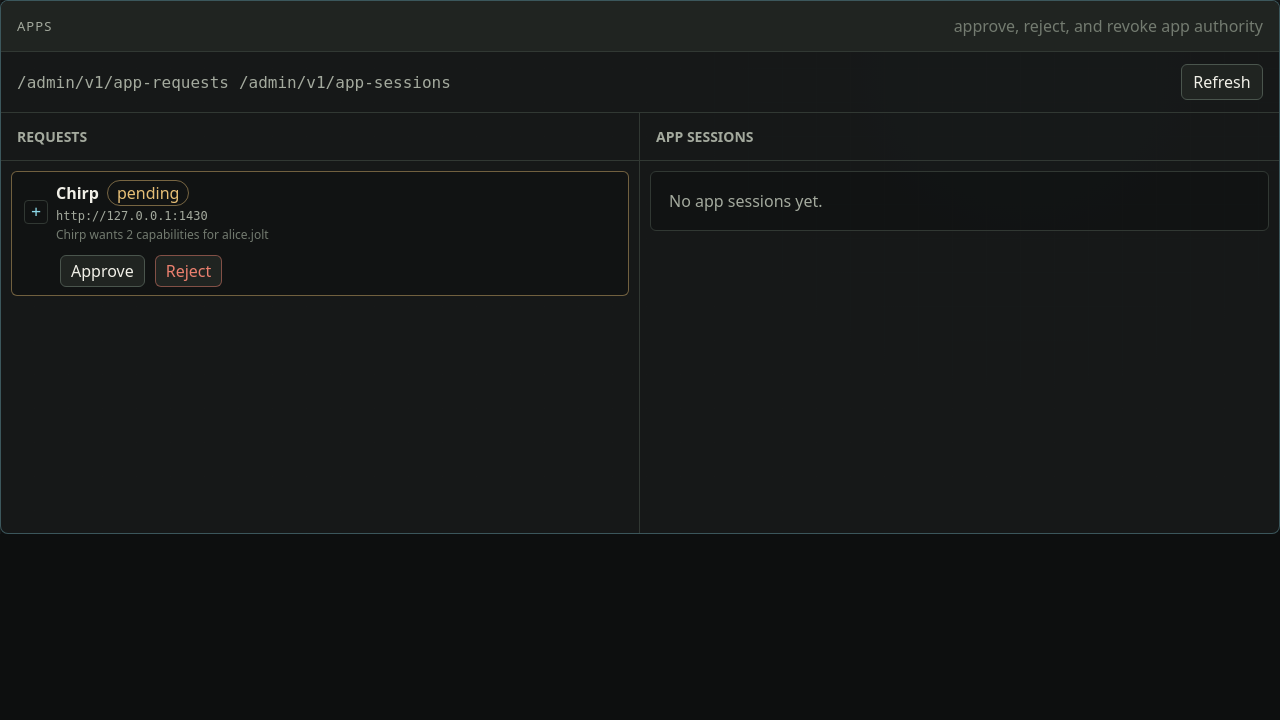
Test case: Console section pages › blocks a delete capability with a malformed wildcard scope
What coordinates should you click on to do the following:
click the button named "request details"
I would click on:
 (77, 193)
Its box is [20,180,620,243].
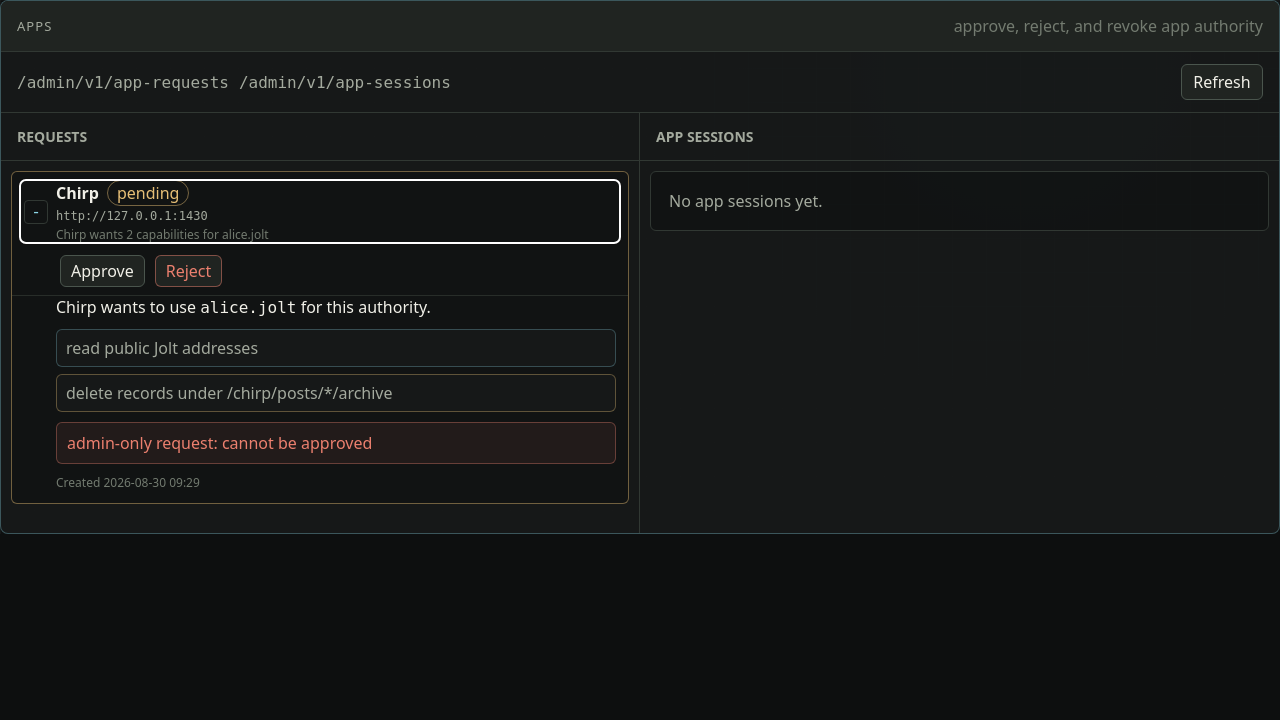
Expected: the button with aria-label "Approve Chirp" is disabled, [60,255,145,287]
Result: the text "admin-only request: cannot be approved" is shown at [56,422,616,464]
